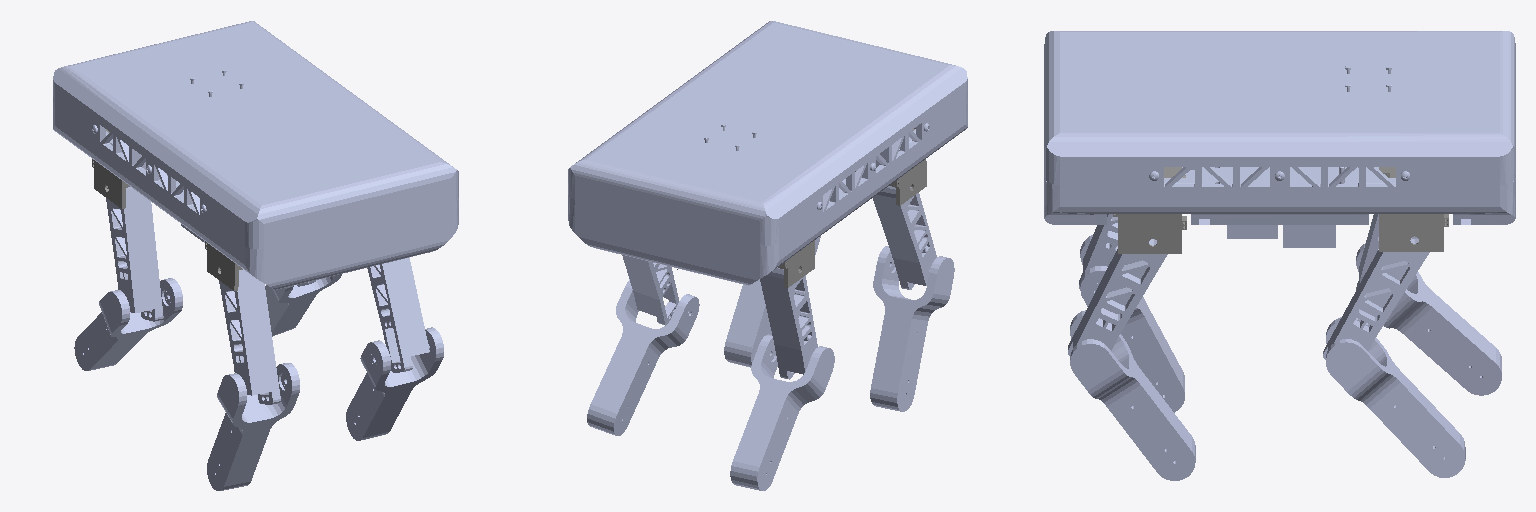
The robot description file, URDF, robot "robodog_urdf_visual":
<robot name="robodog_urdf_visual">
<link name="Body">
<inertial>
<origin xyz="0.656324638994413 -1.42809506690289 0.974685271162886" rpy="0 0 0"/>
<mass value="2.47443646087766"/>
<inertia ixx="0.0338051194285346" ixy="-9.98080509313333E-08" ixz="-3.26646966906258E-08" iyy="0.0188656734512259" iyz="-8.88031110999782E-05" izz="0.0514575753888566"/>
</inertial>
<visual>
<origin xyz="0 0 0" rpy="0 0 0"/>
<geometry>
<mesh filename="package://meshes/Body.STL"/>
</geometry>
<material name="">
<color rgba="0.796078431372549 0.823529411764706 0.937254901960784 1"/>
</material>
</visual>
<collision>
<origin xyz="0 0 0" rpy="0 0 0"/>
<geometry>
<mesh filename="package://meshes/Body.STL"/>
</geometry>
</collision>
</link>
<link name="LFshoulder">
<inertial>
<origin xyz="0.00681169722908104 0.00125033685953124 -0.0529994500001849" rpy="0 0 0"/>
<mass value="0.106734606341006"/>
<inertia ixx="5.17890853646485E-05" ixy="2.95186281800034E-06" ixz="-2.76364828743488E-06" iyy="3.88830335380834E-05" iyz="-2.55784140201913E-06" izz="4.69737140895314E-05"/>
</inertial>
<visual>
<origin xyz="0 0 0" rpy="0 0 0"/>
<geometry>
<mesh filename="package://meshes/LFshoulder.STL"/>
</geometry>
<material name="">
<color rgba="0.627450980392157 0.627450980392157 0.627450980392157 1"/>
</material>
</visual>
<collision>
<origin xyz="0 0 0" rpy="0 0 0"/>
<geometry>
<mesh filename="package://package://meshes/LFshoulder.STL"/>
</geometry>
</collision>
</link>
<joint name="LFshoulder1" type="revolute">
<origin xyz="0.570945900830936 -1.35287827187371 0.934826982453758" rpy="1.5707963267949 0.0196982875803658 0"/>
<parent link="Body"/>
<child link="LFshoulder"/>
<axis xyz="0 0 1"/>
<!-- FIX 1: symmetric limits -->
<limit lower="-1.57" upper="1.57" effort="100000" velocity="0.1"/>
</joint>
<link name="LFthigh">
<inertial>
<origin xyz="0.0254299226832908 -0.0560253459175278 -0.00159464940336007" rpy="0 0 0"/>
<mass value="0.142585062370825"/>
<inertia ixx="0.00032131875229863" ixy="-2.41938494626875E-06" ixz="-5.00179516698194E-08" iyy="3.38957629072241E-05" iyz="-7.67389200474168E-06" izz="0.000316306044817151"/>
</inertial>
<visual>
<origin xyz="0 0 0" rpy="0 0 0"/>
<geometry>
<mesh filename="package://meshes/LFthigh.STL"/>
</geometry>
<material name="">
<color rgba="0.792156862745098 0.819607843137255 0.933333333333333 1"/>
</material>
</visual>
<collision>
<origin xyz="0 0 0" rpy="0 0 0"/>
<geometry>
<mesh filename="package://meshes/LFthigh.STL"/>
</geometry>
</collision>
</link>
<joint name="LFhip" type="revolute">
<origin xyz="-0.0301327356696895 -0.027433002683567 -0.054419879145494" rpy="-0.299813417529854 0 0"/>
<parent link="LFshoulder"/>
<child link="LFthigh"/>
<axis xyz="1 0 0"/>
<!-- FIX 1: symmetric limits -->
<limit lower="-1.57" upper="1.57" effort="100000" velocity="0.1"/>
</joint>
<link name="LFcalf">
<inertial>
<origin xyz="0.0377851499737359 -0.0771360287758094 1.70801450760649E-09" rpy="0 0 0"/>
<mass value="0.220129873044525"/>
<inertia ixx="0.000500333417247401" ixy="-2.71815321277086E-06" ixz="-3.59989002583078E-21" iyy="5.59989224180159E-05" iyz="9.84252284709497E-19" izz="0.000499436637090327"/>
</inertial>
<visual>
<origin xyz="0 0 0" rpy="0 0 0"/>
<geometry>
<mesh filename="package://meshes/LFcalf.STL"/>
</geometry>
<material name="">
<color rgba="0.792156862745098 0.819607843137255 0.933333333333333 1"/>
</material>
</visual>
<collision>
<origin xyz="0 0 0" rpy="0 0 0"/>
<geometry>
<mesh filename="package://meshes/LFcalf.STL"/>
</geometry>
</collision>
</link>
<joint name="LFknee" type="revolute">
<origin xyz="-0.00980170853731022 -0.134770482280563 -0.00414664095535988" rpy="1.09162844050236 -0.0122810329987683 0.0063804086168105"/>
<parent link="LFthigh"/>
<child link="LFcalf"/>
<axis xyz="0.999904235859026 -0.0138390430007545 0"/>
<!-- FIX 1: symmetric limits -->
<limit lower="0" upper="1.57" effort="100000" velocity="0.1"/>
</joint>
<!-- ==================== LR LEG ==================== -->
<link name="LRshoulder">
<inertial>
<origin xyz="0.00697922831782827 0.00120544876893769 -0.0530044716500169" rpy="0 0 0"/>
<mass value="0.107113260088673"/>
<inertia ixx="5.18183845782671E-05" ixy="2.90746990008399E-06" ixz="-2.76364856021151E-06" iyy="3.90281777796418E-05" iyz="-2.5578413861735E-06" izz="4.71229135190175E-05"/>
</inertial>
<visual>
<origin xyz="0 0 0" rpy="0 0 0"/>
<geometry>
<mesh filename="package://meshes/LRshoulder.STL"/>
</geometry>
<material name="">
<color rgba="0.627450980392157 0.627450980392157 0.627450980392157 1"/>
</material>
</visual>
<collision>
<origin xyz="0 0 0" rpy="0 0 0"/>
<geometry>
<mesh filename="package://meshes/LRshoulder.STL"/>
</geometry>
</collision>
</link>
<joint name="LRshoulder1" type="revolute">
<origin xyz="0.570945900830937 -1.60267827187371 0.935026982453744" rpy="1.5707963267949 0.0400174430414714 0"/>
<parent link="Body"/>
<child link="LRshoulder"/>
<axis xyz="0 0 1"/>
<!-- FIX 1: symmetric limits -->
<limit lower="-1.57" upper="1.57" effort="100000" velocity="0.1"/>
</joint>
<link name="LRthigh">
<inertial>
<origin xyz="0.025448577797899 -0.0560272165605814 0.00117650081112397" rpy="0 0 0"/>
<mass value="0.142585062512309"/>
<inertia ixx="0.000321320133122269" ixy="-2.30677332961993E-06" ixz="1.52827116373056E-08" iyy="3.39181273948411E-05" iyz="8.1075016562492E-06" izz="0.000316282299953722"/>
</inertial>
<visual>
<origin xyz="0 0 0" rpy="0 0 0"/>
<geometry>
<mesh filename="package://meshes/LRthigh.STL"/>
</geometry>
<material name="">
<color rgba="0.792156862745098 0.819607843137255 0.933333333333333 1"/>
</material>
</visual>
<collision>
<origin xyz="0 0 0" rpy="0 0 0"/>
<geometry>
<mesh filename="package://meshes/LRthigh.STL"/>
</geometry>
</collision>
</link>
<joint name="LRhip" type="revolute">
<origin xyz="-0.0301327356696457 -0.0274330026834846 -0.0544198791454946" rpy="-0.35188052704573 -0.012952543057539 0.00475550062410753"/>
<parent link="LRshoulder"/>
<child link="LRthigh"/>
<axis xyz="0.999904810563637 0 -0.0137974567111755"/>
<!-- FIX 1: symmetric limits -->
<limit lower="-1.57" upper="1.57" effort="100000" velocity="0.1"/>
</joint>
<link name="LRcalf">
<inertial>
<origin xyz="0.0360577557209741 -0.0779584626053882 4.08413969310573E-10" rpy="0 0 0"/>
<mass value="0.220129873044525"/>
<inertia ixx="0.000499991946951532" ixy="-1.26094720880383E-05" ixz="3.19754937588498E-20" iyy="5.63403927138841E-05" iyz="2.23616698075135E-19" izz="0.000499436637090327"/>
</inertial>
<visual>
<origin xyz="0 0 0" rpy="0 0 0"/>
<geometry>
<mesh filename="package://meshes/LRcalf.STL"/>
</geometry>
<material name="">
<color rgba="0.792156862745098 0.819607843137255 0.933333333333333 1"/>
</material>
</visual>
<collision>
<origin xyz="0 0 0" rpy="0 0 0"/>
<geometry>
<mesh filename="package://meshes/LRcalf.STL"/>
</geometry>
</collision>
</link>
<joint name="LRknee" type="revolute">
<origin xyz="-0.00975435685953308 -0.134792281203354 0.003499209275174" rpy="0.797443610135705 -0.0120453146509253 0.0252265315134874"/>
<parent link="LRthigh"/>
<child link="LRcalf"/>
<axis xyz="0.999347964148459 -0.0361060459248811 0"/>
<!-- FIX 1: symmetric limits -->
<limit lower="0" upper="1.57" effort="100000" velocity="0.1"/>
</joint>
<!-- ==================== RF LEG ==================== -->
<link name="RFshoulder">
<inertial>
<origin xyz="-0.0069792232149215 0.00120545927671156 -0.0530044835151915" rpy="0 0 0"/>
<mass value="0.107113316590436"/>
<inertia ixx="5.18183962454629E-05" ixy="-2.90747124297496E-06" ixz="2.76365354538931E-06" iyy="3.90281899527752E-05" iyz="-2.5578377303906E-06" izz="4.71229170668772E-05"/>
</inertial>
<visual>
<origin xyz="0 0 0" rpy="0 0 0"/>
<geometry>
<mesh filename="package://meshes/RFshoulder.STL"/>
</geometry>
<material name="">
<color rgba="0.627450980392157 0.627450980392157 0.627450980392157 1"/>
</material>
</visual>
<collision>
<origin xyz="0 0 0" rpy="0 0 0"/>
<geometry>
<mesh filename="package://meshes/RFshoulder.STL"/>
</geometry>
</collision>
</link>
<joint name="RFshoulder1" type="revolute">
<origin xyz="0.741284184425223 -1.35287827187371 0.935826981513804" rpy="1.5707963267949 -0.116458893368777 0"/>
<parent link="Body"/>
<child link="RFshoulder"/>
<axis xyz="0 0 1"/>
<!-- FIX 1: symmetric limits -->
<limit lower="-1.57" upper="1.57" effort="100000" velocity="0.1"/>
</joint>
<link name="RFthigh">
<inertial>
<origin xyz="-0.0254299225488506 -0.0560253487071269 -0.00159464974084234" rpy="0 0 0"/>
<mass value="0.14258506807021"/>
<inertia ixx="0.000321318786317582" ixy="2.41938856259475E-06" ixz="5.0018727702744E-08" iyy="3.38957611151945E-05" iyz="-7.67389491245136E-06" izz="0.000316306080101547"/>
</inertial>
<visual>
<origin xyz="0 0 0" rpy="0 0 0"/>
<geometry>
<mesh filename="package://meshes/RFthigh.STL"/>
</geometry>
<material name="">
<color rgba="0.792156862745098 0.819607843137255 0.933333333333333 1"/>
</material>
</visual>
<collision>
<origin xyz="0 0 0" rpy="0 0 0"/>
<geometry>
<mesh filename="package://meshes/RFthigh.STL"/>
</geometry>
</collision>
</link>
<joint name="RFhip" type="revolute">
<origin xyz="0.0301327362857767 -0.0274330018035406 -0.0544198791458379" rpy="-0.532538206681912 0 0"/>
<parent link="RFshoulder"/>
<child link="RFthigh"/>
<!-- FIX 3: axis matches LF/LR (was -1 0 0) -->
<axis xyz="1 0 0"/>
<!-- FIX 1: symmetric limits -->
<limit lower="-1.57" upper="1.57" effort="100000" velocity="0.1"/>
</joint>
<link name="RFcalf">
<inertial>
<origin xyz="0.0456389236696949 -0.072926852139616 5.40545386229496E-12" rpy="0 0 0"/>
<mass value="0.220129873044526"/>
<inertia ixx="0.000497582548247098" ixy="3.4958933968641E-05" ixz="3.72694496791892E-20" iyy="5.87497914183215E-05" iyz="-2.35475159336695E-19" izz="0.00049943663709033"/>
</inertial>
<visual>
<origin xyz="0 0 0" rpy="0 0 0"/>
<geometry>
<mesh filename="package://meshes/RFcalf.STL"/>
</geometry>
<material name="">
<color rgba="0.792156862745098 0.819607843137255 0.933333333333333 1"/>
</material>
</visual>
<collision>
<origin xyz="0 0 0" rpy="0 0 0"/>
<geometry>
<mesh filename="package://meshes/RFcalf.STL"/>
</geometry>
</collision>
</link>
<joint name="RFknee" type="revolute">
<origin xyz="-0.0688982914538071 -0.135741088974873 -0.00470154873322026" rpy="1.2644864677079 0.0827040505719773 -0.0261205230150006"/>
<parent link="RFthigh"/>
<child link="RFcalf"/>
<axis xyz="0.996242013440497 0.0866132244869372 0"/>
<!-- FIX 1: symmetric limits -->
<limit lower="0" upper="1.57" effort="100000" velocity="0.1"/>
</joint>
<!-- ==================== RR LEG ==================== -->
<link name="RRshoulder">
<inertial>
<origin xyz="-0.00697921190467143 0.00120482955155443 -0.0530044835509087" rpy="0 0 0"/>
<mass value="0.107113316314874"/>
<inertia ixx="5.18183961988968E-05" ixy="-2.9074713425353E-06" ixz="2.76365331101969E-06" iyy="3.90281896411856E-05" iyz="-2.55783770855946E-06" izz="4.71229166596488E-05"/>
</inertial>
<visual>
<origin xyz="0 0 0" rpy="0 0 0"/>
<geometry>
<mesh filename="package://meshes/RRshoulder.STL"/>
</geometry>
<material name="">
<color rgba="0.627450980392157 0.627450980392157 0.627450980392157 1"/>
</material>
</visual>
<collision>
<origin xyz="0 0 0" rpy="0 0 0"/>
<geometry>
<mesh filename="package://meshes/RRshoulder.STL"/>
</geometry>
</collision>
</link>
<joint name="RRshoulder1" type="revolute">
<origin xyz="0.741284184940541 -1.60267827187374 0.935826982453767" rpy="1.5707963267949 -0.0019797424334105 0"/>
<parent link="Body"/>
<child link="RRshoulder"/>
<axis xyz="0 0 1"/>
<!-- FIX 1: symmetric limits -->
<limit lower="-1.57" upper="1.57" effort="100000" velocity="0.1"/>
</joint>
<link name="RRthigh">
<inertial>
<origin xyz="-0.0254299227848083 -0.0560253474323369 -0.0015946498201842" rpy="0 0 0"/>
<mass value="0.142585067571199"/>
<inertia ixx="0.000321318785253325" ixy="2.41938748456796E-06" ixz="5.00187418284509E-08" iyy="3.38957605966384E-05" iyz="-7.67389502238405E-06" izz="0.000316306078517343"/>
</inertial>
<visual>
<origin xyz="0 0 0" rpy="0 0 0"/>
<geometry>
<mesh filename="package://meshes/RRthigh.STL"/>
</geometry>
<material name="">
<color rgba="0.792156862745098 0.819607843137255 0.933333333333333 1"/>
</material>
</visual>
<collision>
<origin xyz="0 0 0" rpy="0 0 0"/>
<geometry>
<mesh filename="package://meshes/RRthigh.STL"/>
</geometry>
</collision>
</link>
<joint name="RRhip" type="revolute">
<origin xyz="0.0301327477149707 -0.0274336317901348 -0.0544198793939654" rpy="-0.487004042275192 0 0"/>
<parent link="RRshoulder"/>
<child link="RRthigh"/>
<!-- FIX 3: axis matches LF/LR (was -1 0 0) -->
<axis xyz="1 0 0"/>
<!-- FIX 1: symmetric limits -->
<limit lower="-1.57" upper="1.57" effort="100000" velocity="0.1"/>
</joint>
<link name="RRcalf">
<inertial>
<origin xyz="0.0392753470832037 -0.076542042229081 1.01296748766799E-12" rpy="0 0 0"/>
<mass value="0.220129873044525"/>
<inertia ixx="0.000500333518865319" ixy="-2.70983477952626E-06" ixz="-1.20172799391704E-20" iyy="5.59988208000997E-05" iyz="6.43745039913268E-20" izz="0.000499436637090329"/>
</inertial>
<visual>
<origin xyz="0 0 0" rpy="0 0 0"/>
<geometry>
<mesh filename="package://meshes/RRcalf.STL"/>
</geometry>
<material name="">
<color rgba="0.792156862745098 0.819607843137255 0.933333333333333 1"/>
</material>
</visual>
<collision>
<origin xyz="0 0 0" rpy="0 0 0"/>
<geometry>
<mesh filename="package://meshes/RRcalf.STL"/>
</geometry>
</collision>
</link>
<joint name="RRknee" type="revolute">
<origin xyz="-0.0688982915173117 -0.135741089101065 -0.00470154847425786" rpy="1.09576138654391 0.00144427473534236 -0.000742813636079913"/>
<parent link="RRthigh"/>
<child link="RRcalf"/>
<!--
 FIX 2: axis matches others (was -0.999998681 -0.00162 0) 
-->
<axis xyz="0.999998681146719 0.00162410123492629 0"/>
<!-- FIX 1: symmetric limits -->
<limit lower="0" upper="1.57" effort="100000" velocity="0.1"/>
</joint>
<!-- Dummy foot links -->
<link name="LFfoot"/>
<link name="LRfoot"/>
<link name="RFfoot"/>
<link name="RRfoot"/>
<joint name="LFankle" type="fixed">
<parent link="LFcalf"/>
<child link="LFfoot"/>
<origin xyz="0.04 -0.15 0" rpy="0 0 0"/>
</joint>
<joint name="LRankle" type="fixed">
<parent link="LRcalf"/>
<child link="LRfoot"/>
<origin xyz="0.04 -0.15 0" rpy="0 0 0"/>
</joint>
<joint name="RFankle" type="fixed">
<parent link="RFcalf"/>
<child link="RFfoot"/>
<origin xyz="0.04 -0.15 0" rpy="0 0 0"/>
</joint>
<joint name="RRankle" type="fixed">
<parent link="RRcalf"/>
<child link="RRfoot"/>
<origin xyz="0.04 -0.15 0" rpy="0 0 0"/>
</joint>
</robot>

--- Render facts (derived) ---
3 views of the same robot in one strip: view 1: azimuth 30°, elevation 25°; view 2: azimuth 150°, elevation 25°; view 3: azimuth 270°, elevation 25° (orthographic).
Robot: robodog_urdf_visual — 17 links, 16 joints (12 revolute, 4 fixed); root link Body; default pose: every joint at zero.
Links seen in each view (by area): view 1: Body, LRcalf, RRcalf, LRthigh, LFthigh, LFcalf, RRthigh, RFcalf, LFshoulder, LRshoulder; view 2: Body, LRcalf, LFcalf, RFcalf, LFthigh, LRthigh, RRcalf, RFthigh, LRshoulder, LFshoulder; view 3: Body, RFcalf, RRcalf, LFcalf, RFthigh, RRthigh, LRcalf, RRshoulder, RFshoulder, LRthigh, LFthigh.
Boxes of the visible links, x1,y1,x2,y2 form: Body: (53,21,458,289); LRcalf: (207,363,299,490); RRcalf: (346,327,443,440); LRthigh: (219,269,280,404); LFthigh: (106,187,163,321); LFcalf: (74,278,182,370); RRthigh: (367,257,429,372); RFcalf: (265,274,341,336); LFshoulder: (92,129,129,208); LRshoulder: (205,241,242,290); Body: (568,21,967,285); LRcalf: (870,246,954,411); LFcalf: (730,334,834,490); RFcalf: (587,279,699,435); LFthigh: (760,267,817,379); LRthigh: (873,186,936,289); RRcalf: (724,236,820,367); RFthigh: (622,255,678,325); LRshoulder: (855,127,926,205); LFshoulder: (778,240,814,287); Body: (1044,31,1515,247); RFcalf: (1326,317,1465,477); RRcalf: (1070,310,1195,480); LFcalf: (1356,243,1501,395); RFthigh: (1323,236,1429,359); RRthigh: (1068,239,1167,355); LRcalf: (1080,235,1184,412); RRshoulder: (1113,167,1186,253); RFshoulder: (1379,167,1448,251); LRthigh: (1079,214,1117,288); LFthigh: (1359,214,1378,279).
Size in the robot's own frame: 0.2831 by 0.45 by 0.3951 metres.
Meshes: 13 distinct files referenced, 13 mesh visuals loaded (13 binary STL).
